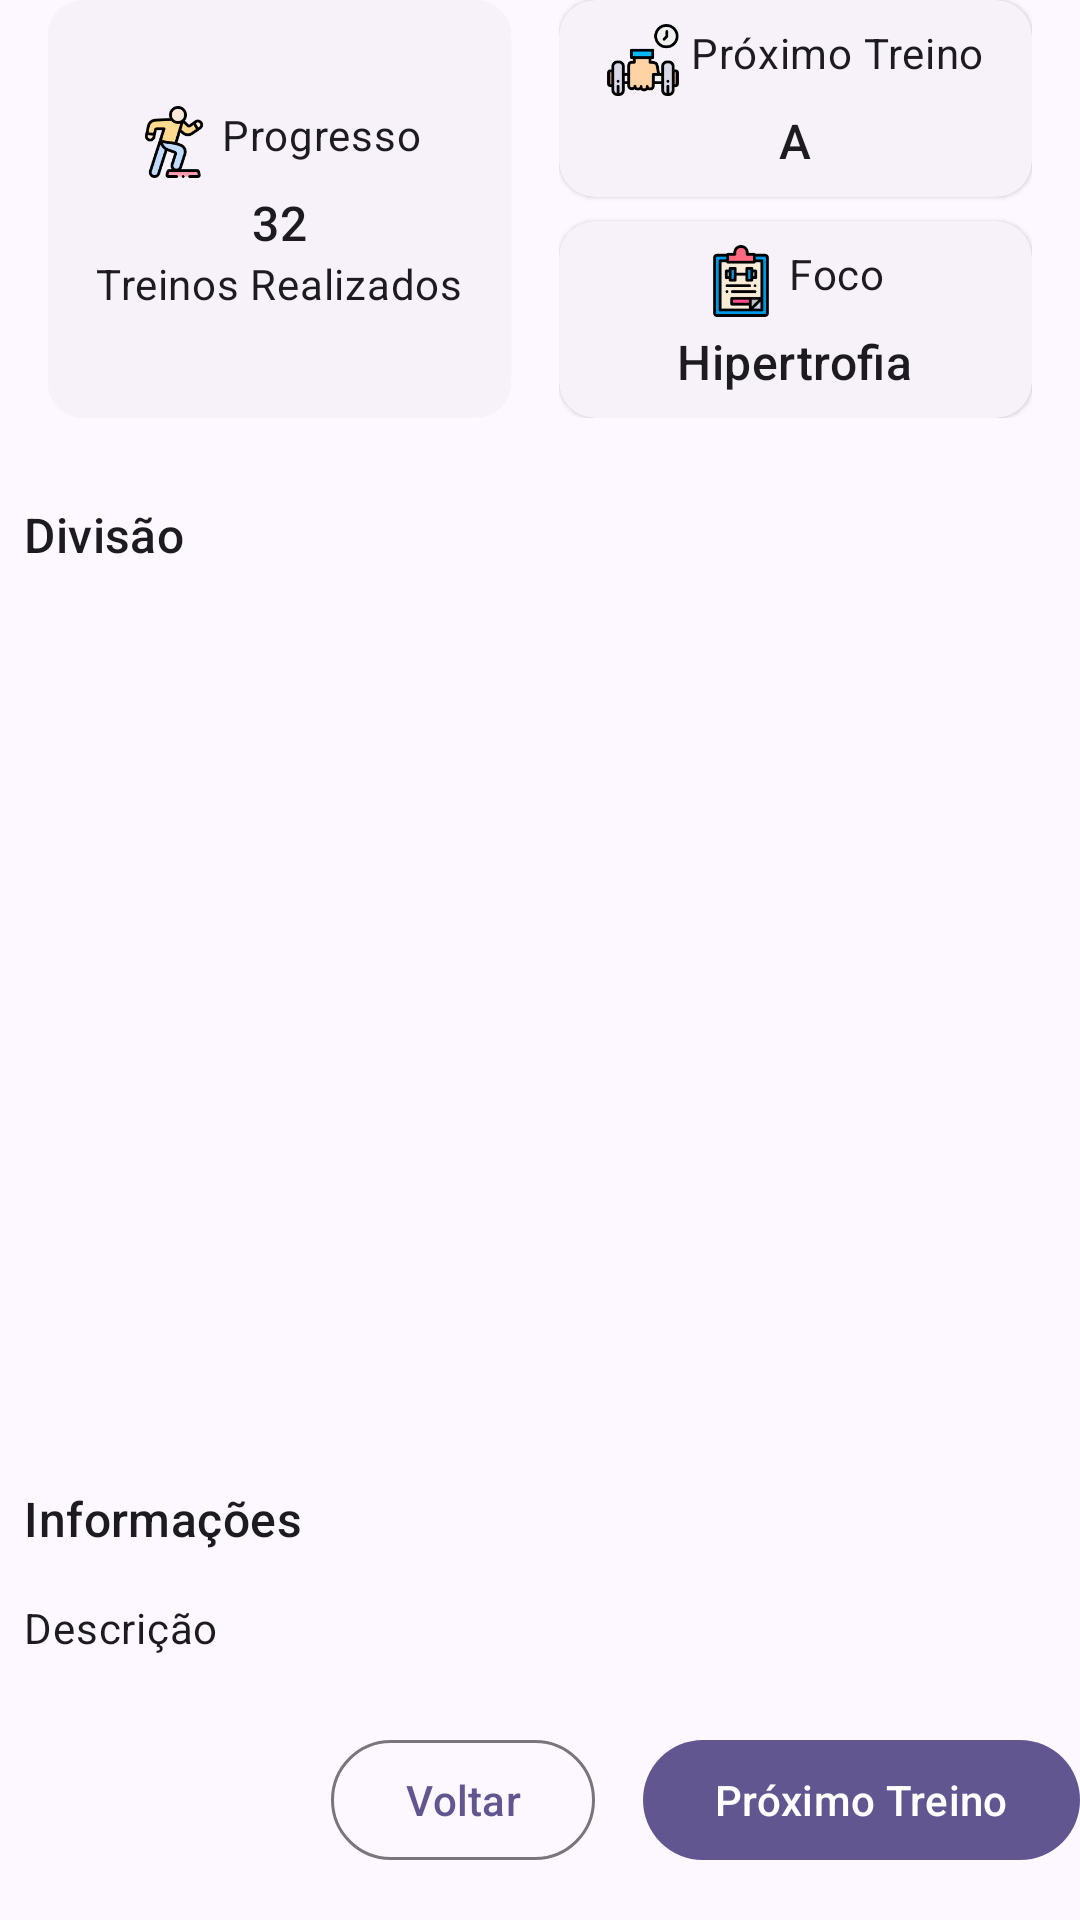

Icons on this 1080×1920 Android screen, each with its box as (x1, y1, x2, y2):
aerobic: (145, 106, 203, 178)
gym file: (713, 245, 769, 317)
workout: (607, 24, 679, 96)
